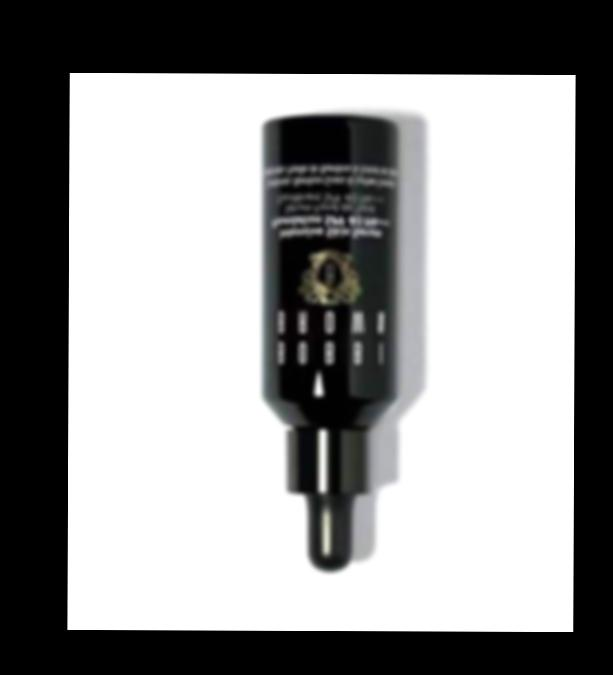cosmetic: (256, 123, 397, 572)
